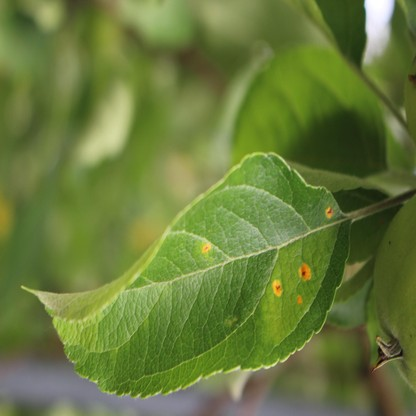rust: (298, 263, 312, 280), (271, 276, 281, 296), (202, 242, 210, 254), (325, 206, 331, 217), (297, 294, 303, 304)
